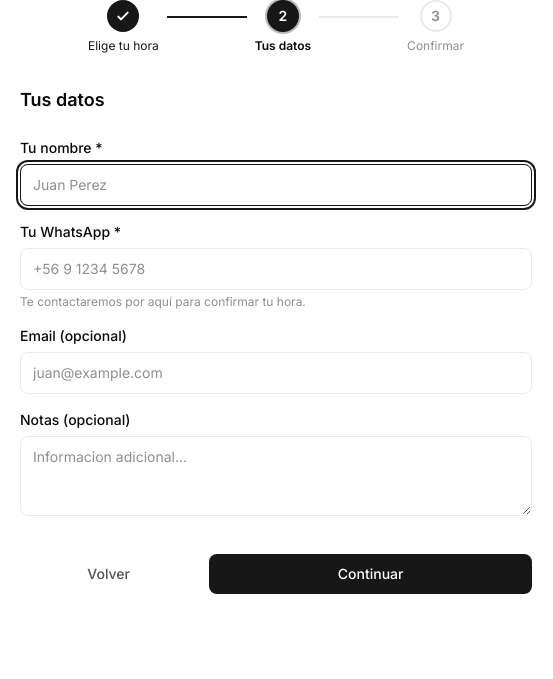
it: BookingWizard › shows error when name is empty
Step 1. Click the button "Continuar" → point(371, 574), box left=209, top=554, right=532, bottom=594
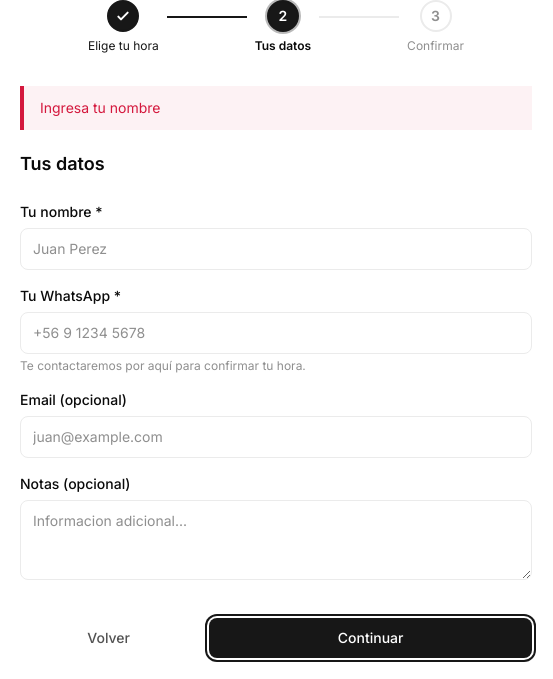
Check: the text "Ingresa tu nombre" is shown, box left=20, top=86, right=532, bottom=130
